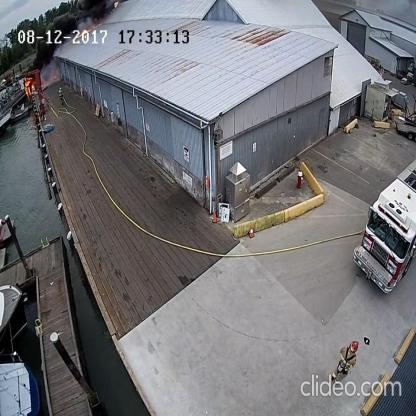fire: (22, 74, 38, 100)
